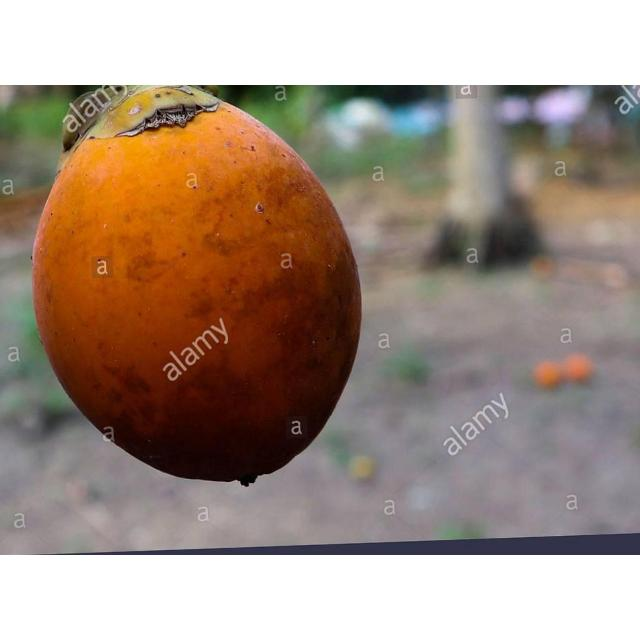good: (31, 85, 363, 487)
